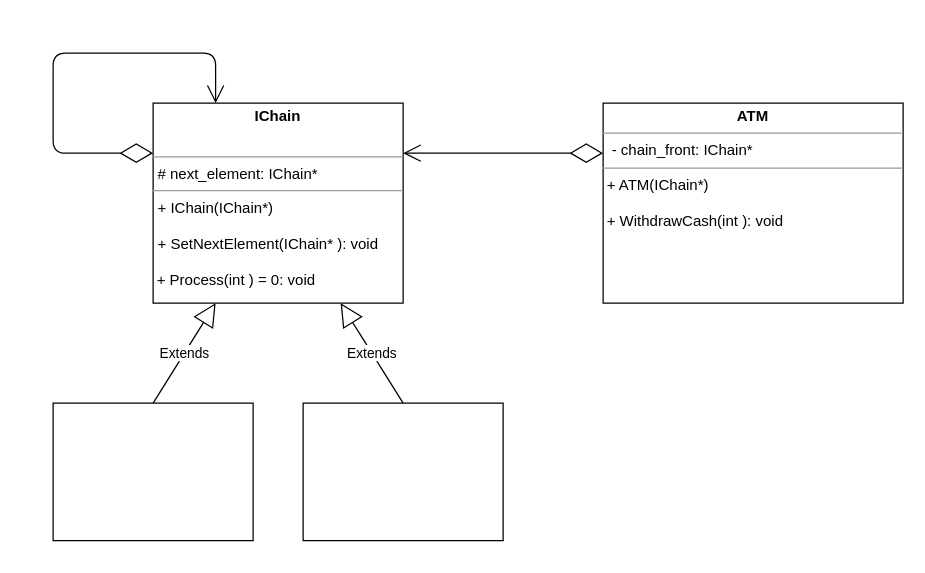
The diagram is 925 pixels wide and 573 high, and some of its shapes have lost their labels. The shapes that lost their labels are listed below. From the top down, each one's centre as x and y in pixels, then its label:
At (152,471): "FeeTaker - fee: const int + FeeTaker (int ) + FeeTaker (int , IChain*)".
At (402,471): "Dispenser - face_value: const int + Dispenser (int ) + Dispenser (int, IChain* )".
